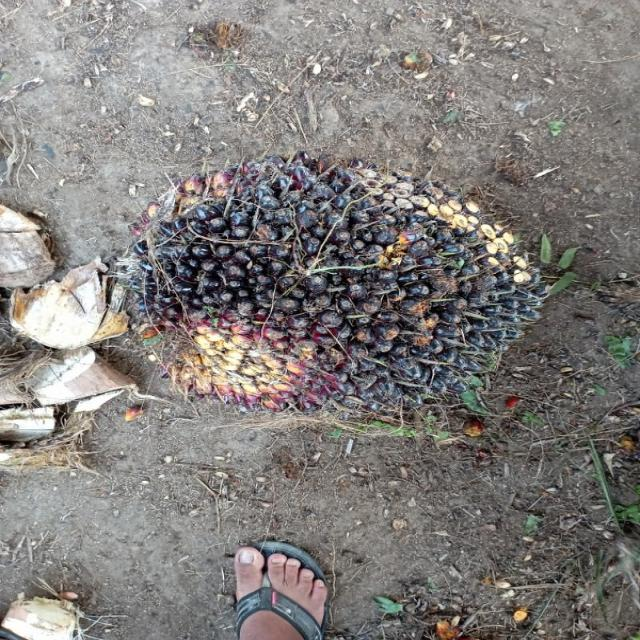fraksi 00: (90, 124, 593, 486)
